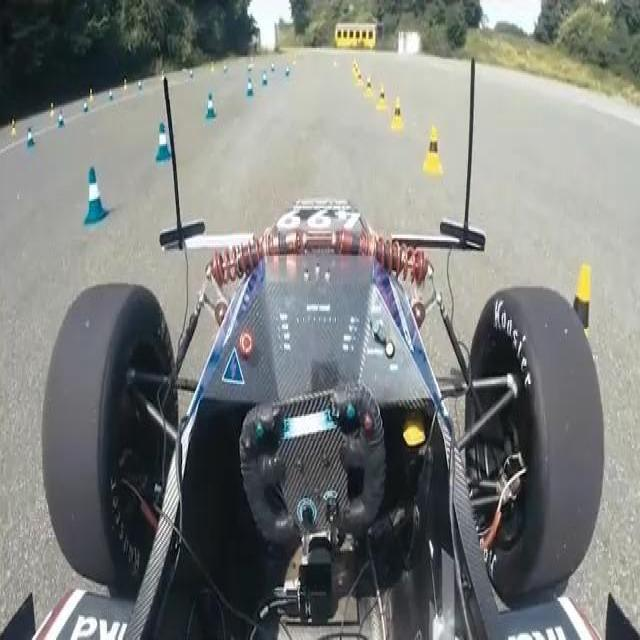blue_cone: (81, 163, 111, 229), (154, 121, 171, 161), (204, 93, 217, 119)
yellow_cone: (557, 261, 591, 383), (421, 124, 443, 175), (389, 96, 406, 130)
